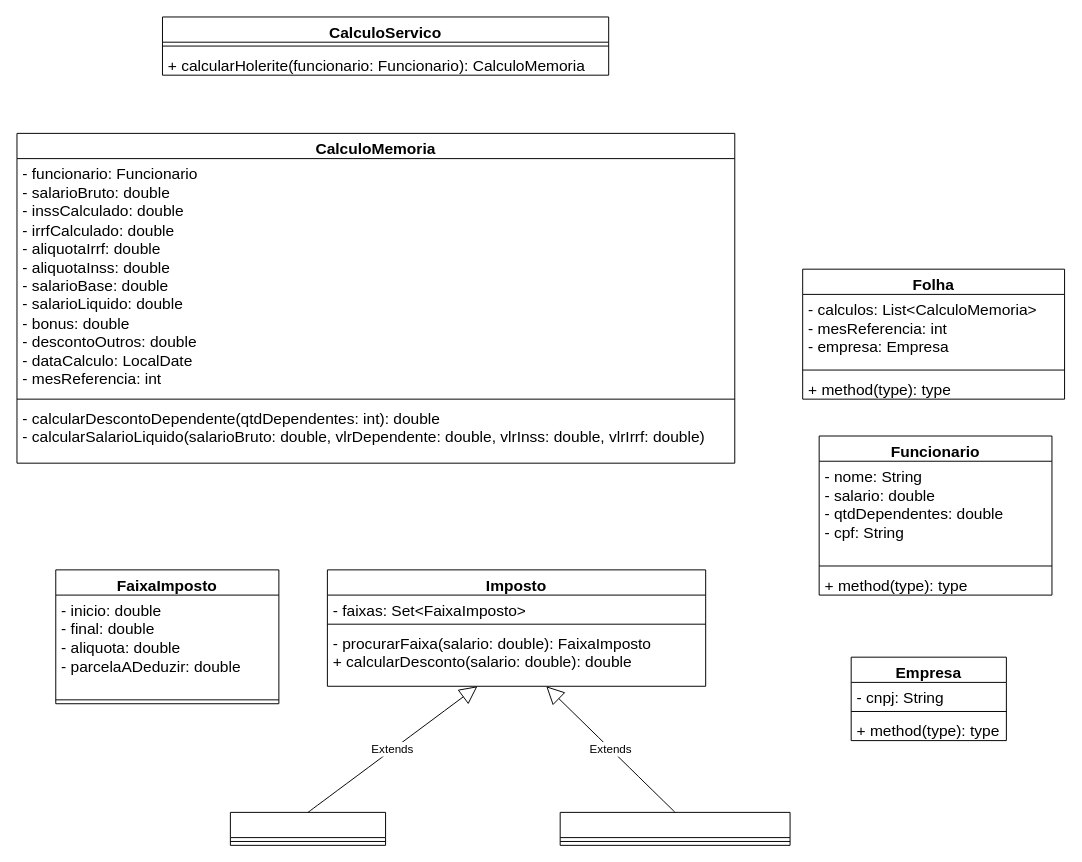
The diagram is 1082 pixels wide and 862 high, and some of its shapes have lost their labels. The centre of each missing label's shape, as x and y in pixels:
INSS: point 307,828
IRRF: point 674,828
